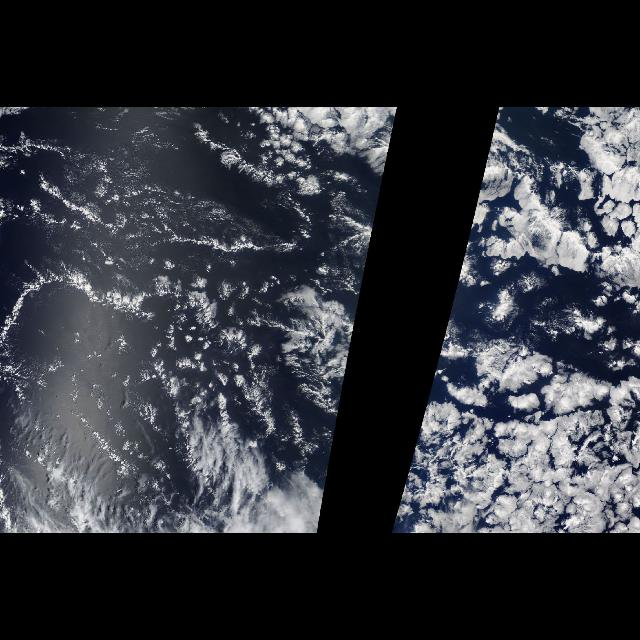Fish: (0, 252, 164, 368)
Flower: (475, 343, 633, 531)
Sugar: (20, 144, 292, 270)
